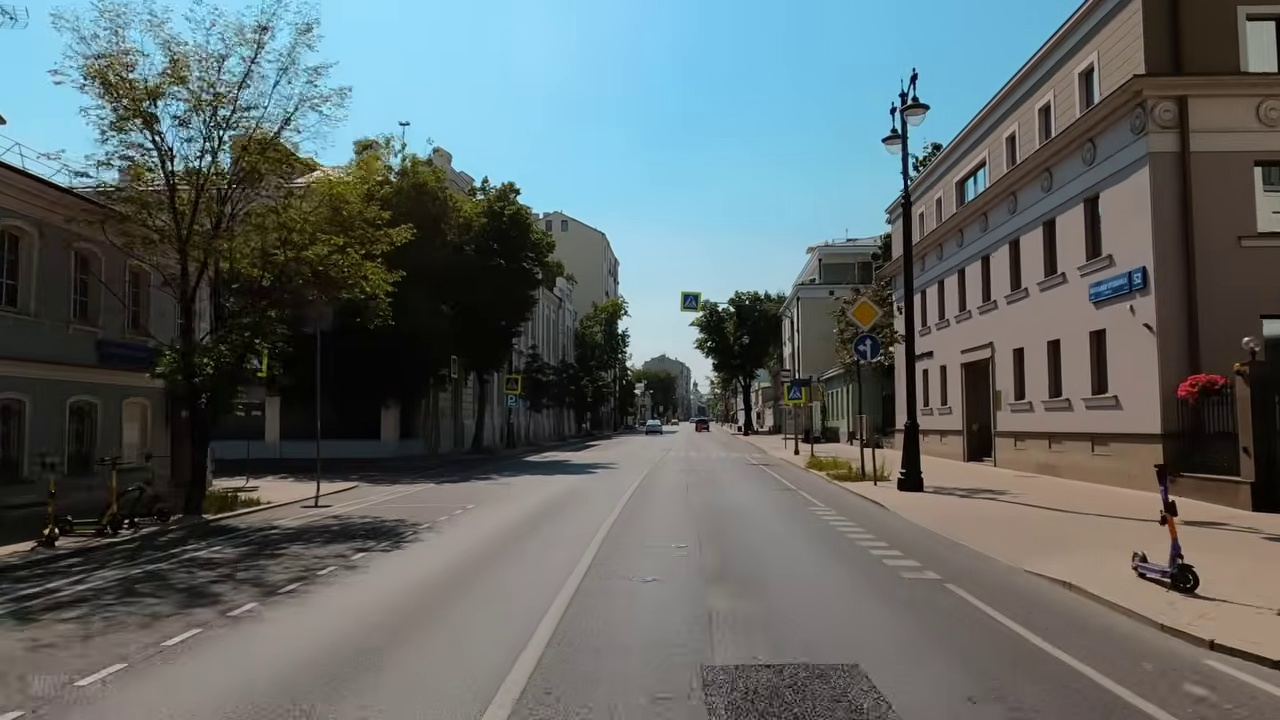apagada: (880, 92, 929, 146)
